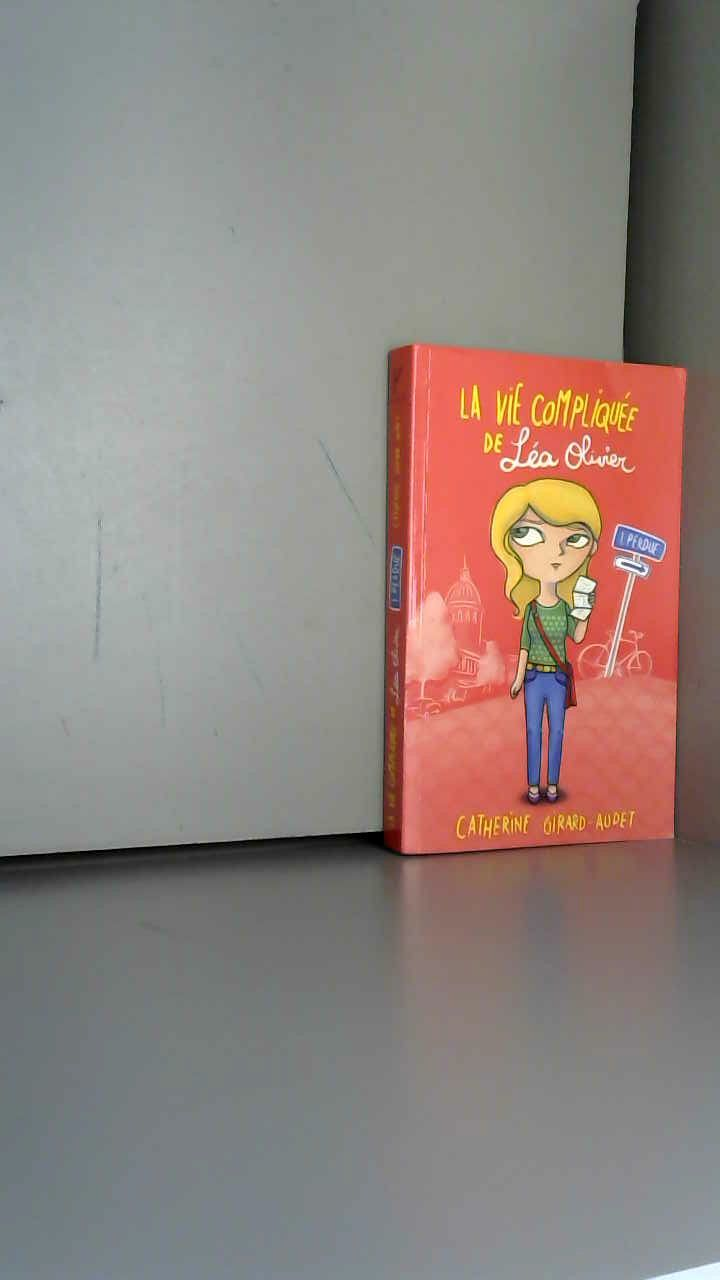book: (380, 310, 720, 936)
